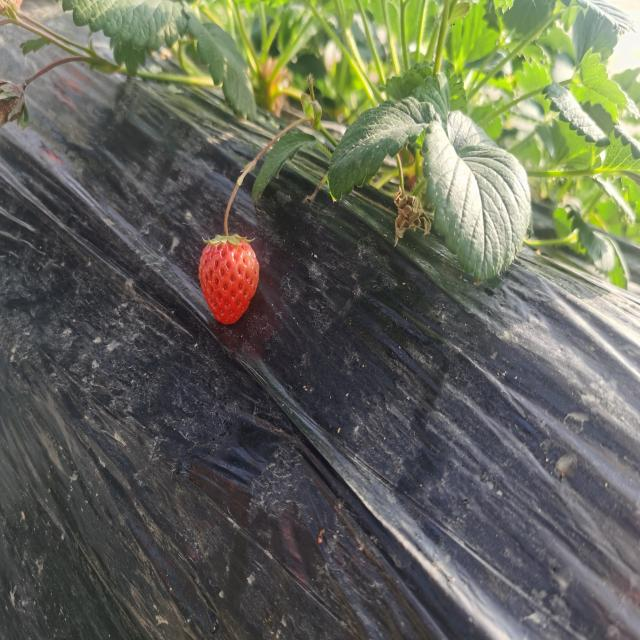stem: (224, 188, 237, 237)
strawberry: (199, 234, 260, 324)
